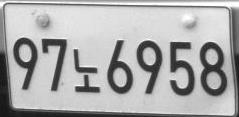5: (169, 41, 195, 97)
6: (105, 39, 133, 95)
7: (41, 38, 67, 91)
8: (199, 40, 228, 96)
9: (135, 39, 163, 94), (13, 36, 39, 91)
노: (73, 48, 100, 92)
